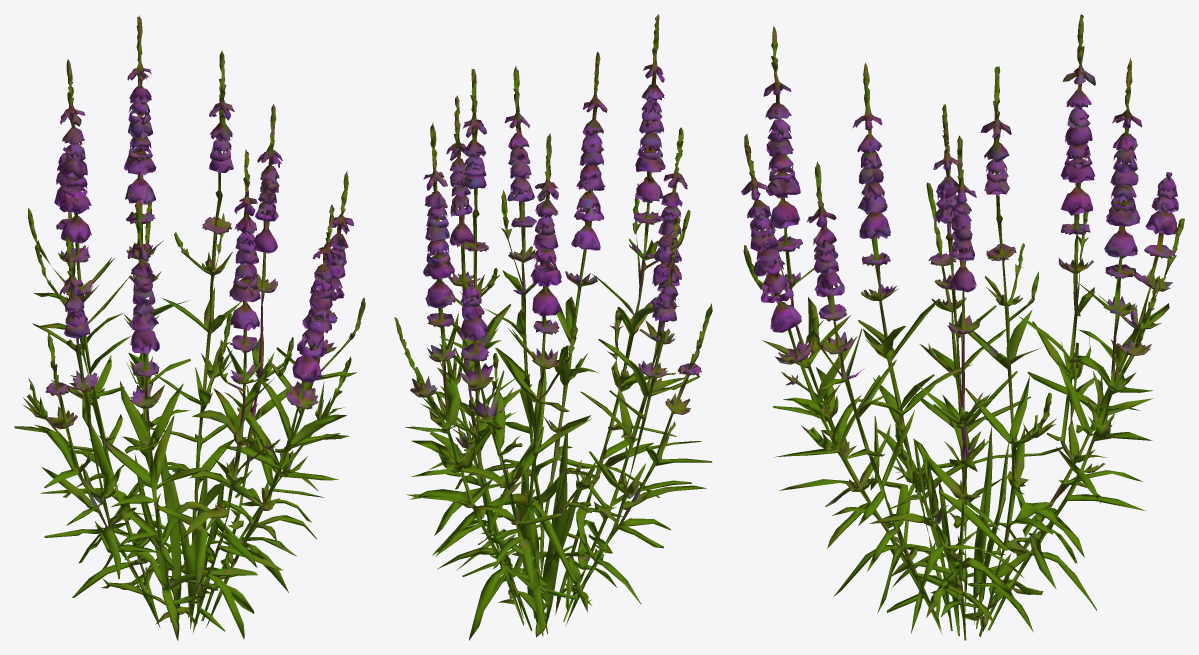
The model's file is QianCengCai.glb.
The picture shows the model from 3 angles, left to right: view 1: azimuth 30°, elevation 25°; view 2: azimuth 150°, elevation 25°; view 3: azimuth 270°, elevation 25°; orthographic projection. The views are drawn at different scales.
Visible parts, largest first — view 1: tripo_node_8238b78f-4244-4a0a-baaf-509f97c9d34a; view 2: tripo_node_8238b78f-4244-4a0a-baaf-509f97c9d34a; view 3: tripo_node_8238b78f-4244-4a0a-baaf-509f97c9d34a.
Part boxes in pixels (x1=…): tripo_node_8238b78f-4244-4a0a-baaf-509f97c9d34a: x1=14, y1=15, x2=365, y2=640; tripo_node_8238b78f-4244-4a0a-baaf-509f97c9d34a: x1=394, y1=14, x2=712, y2=640; tripo_node_8238b78f-4244-4a0a-baaf-509f97c9d34a: x1=741, y1=14, x2=1184, y2=640.
Bounding box in the file's own units: 0.5398 × 0.979 × 0.6636.
1 material, 1 textured.
